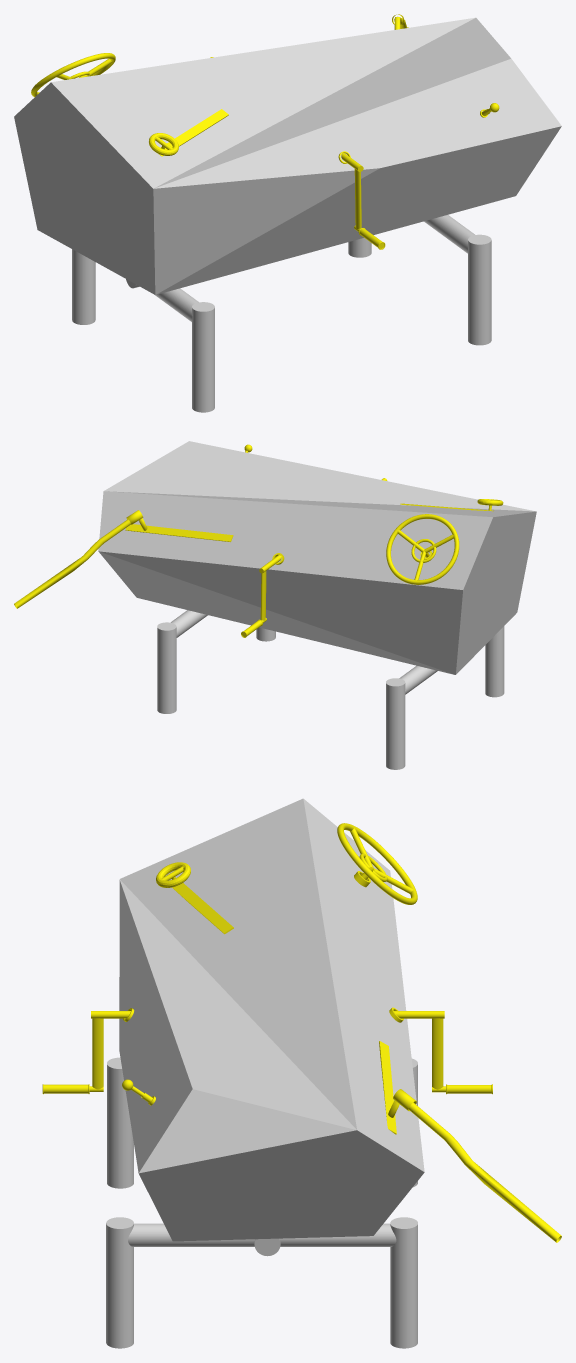
3 renders of one model, top to bottom at view 1: azimuth 30°, elevation 25°; view 2: azimuth 150°, elevation 25°; view 3: azimuth 270°, elevation 25°, orthographic. The views are drawn at different scales.
Visible parts, largest first — view 1: cuve.009, Cylinder.038, Cylinder.016, Inst4.018, Cylinder.017, Inst Mod.018, Cylinder.039, Cylinder.015; view 2: cuve.009, Inst4.018, Cylinder.041, Cylinder.037, Cylinder.017, Cylinder.016, Inst Mod.018, Cylinder.015, Cylinder.039; view 3: cuve.009, Inst Mod.018, Inst4.018, Cylinder.038, Cylinder.037, Cylinder.041, Cylinder.016, Cylinder.039.
Boxes of the visible parts, box(x1,y1,x2,y2) form: cuve.009: box(14, 17, 561, 294); Cylinder.038: box(468, 234, 491, 345); Cylinder.016: box(192, 302, 214, 412); Inst4.018: box(31, 53, 228, 156); Cylinder.017: box(72, 249, 95, 324); Inst Mod.018: box(210, 57, 487, 249); Cylinder.039: box(424, 215, 474, 253); Cylinder.015: box(154, 288, 198, 321); cuve.009: box(98, 441, 536, 674); Inst4.018: box(386, 499, 503, 584); Cylinder.041: box(14, 510, 233, 608); Cylinder.037: box(157, 622, 176, 713); Cylinder.017: box(386, 678, 405, 769); Cylinder.016: box(485, 626, 504, 697); Inst Mod.018: box(241, 478, 432, 637); Cylinder.015: box(399, 665, 437, 694); Cylinder.039: box(171, 610, 207, 637); cuve.009: box(119, 798, 424, 1241); Inst Mod.018: box(42, 871, 492, 1105); Inst4.018: box(156, 823, 417, 934); Cylinder.038: box(106, 1217, 133, 1348); Cylinder.037: box(390, 1217, 417, 1348); Cylinder.041: box(379, 1041, 561, 1242); Cylinder.016: box(107, 1057, 133, 1188); Cylinder.039: box(128, 1223, 396, 1246).
Size of the model in its own units: 2.2 by 1.29 by 1.87.
